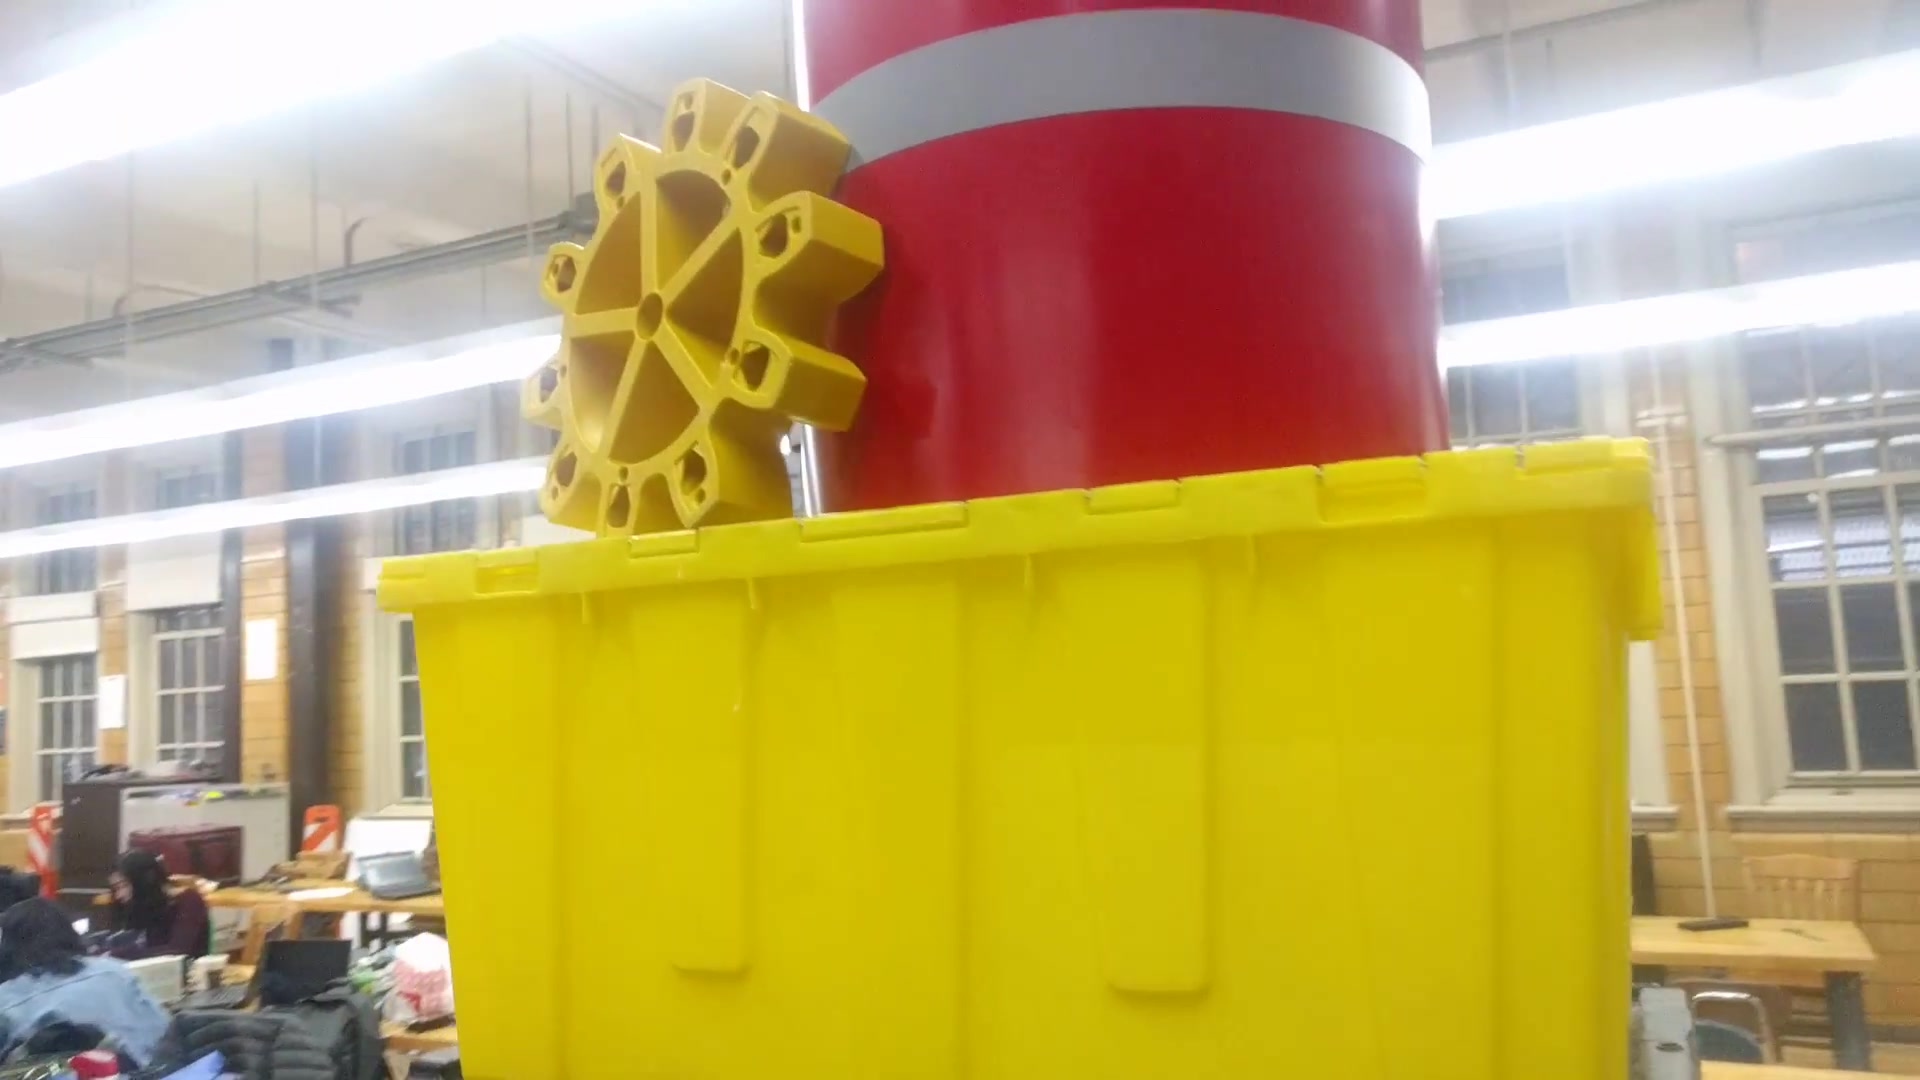gear: (513, 69, 884, 558)
